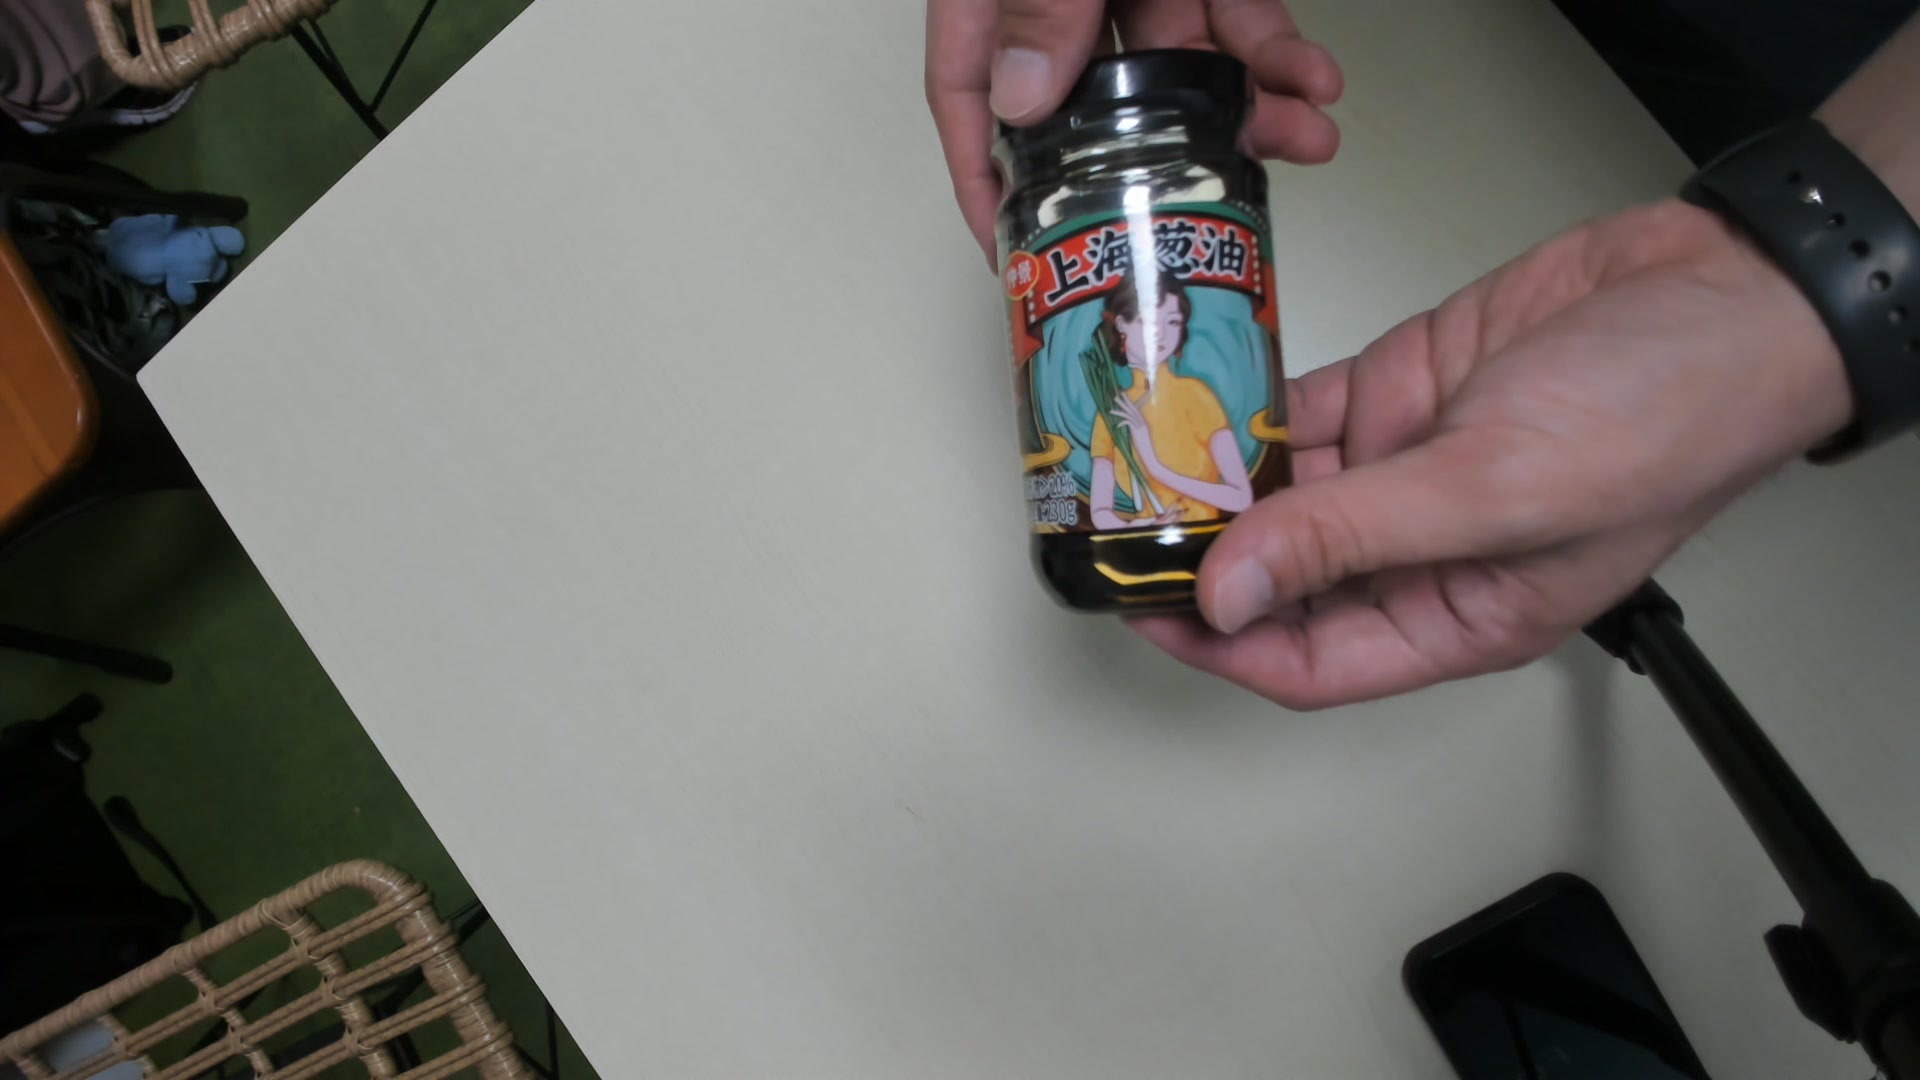OtherSauceDressing_200-299g_NonHalal_NonHealthy: (993, 50, 1300, 608)
